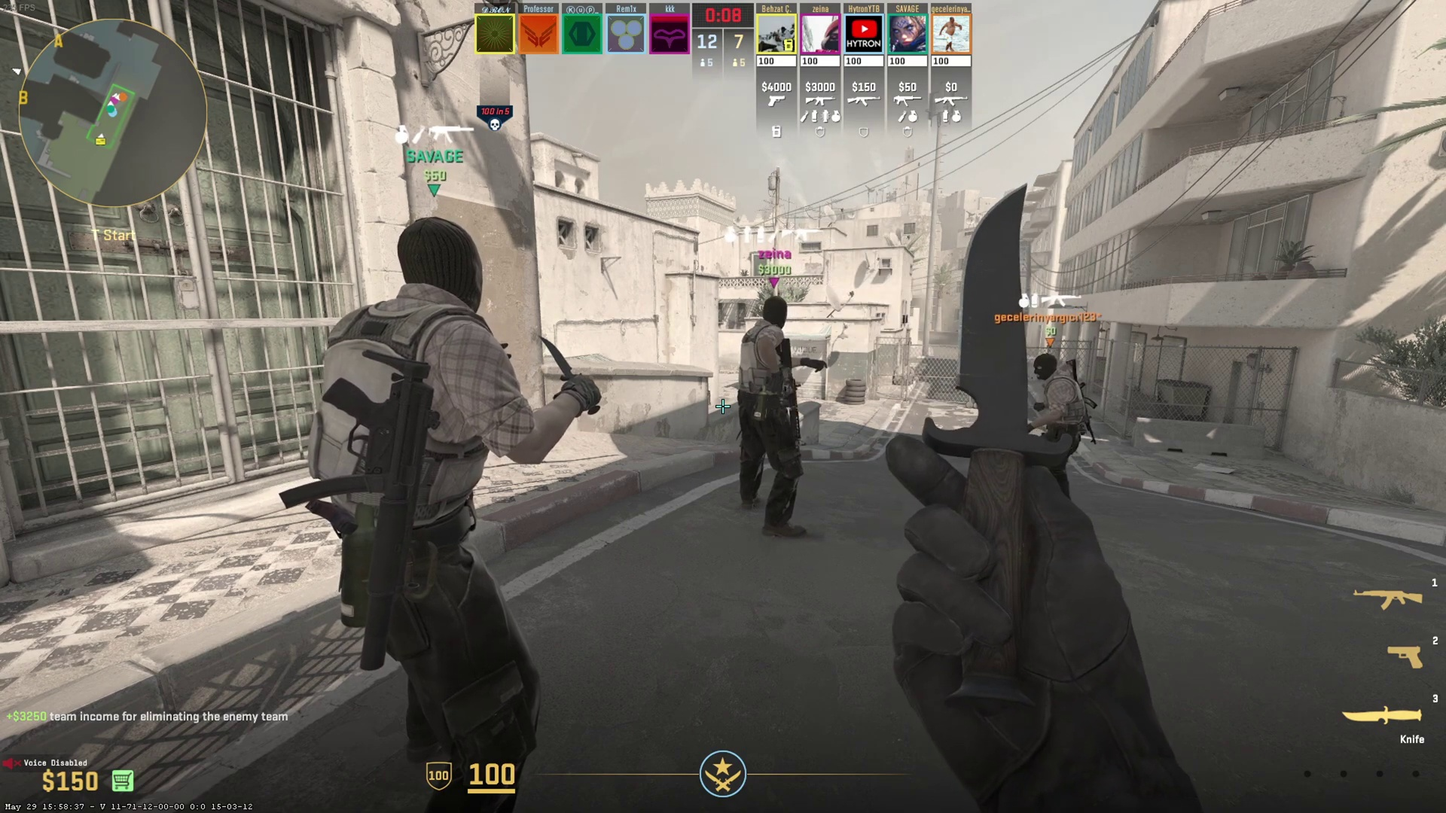Terrorist: (276, 217, 550, 777), (728, 284, 812, 546), (1014, 345, 1082, 500)
